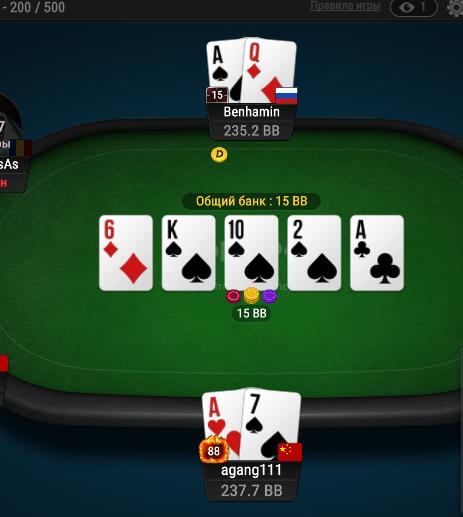10s: (224, 215, 278, 290)
2s: (288, 217, 340, 288)
6d: (100, 216, 152, 291)
7s: (242, 389, 302, 462)
Ac: (350, 217, 404, 289)
Ah: (202, 391, 244, 459)
As: (207, 37, 246, 102)
Ks: (162, 216, 216, 291)
Qd: (245, 36, 296, 106)
